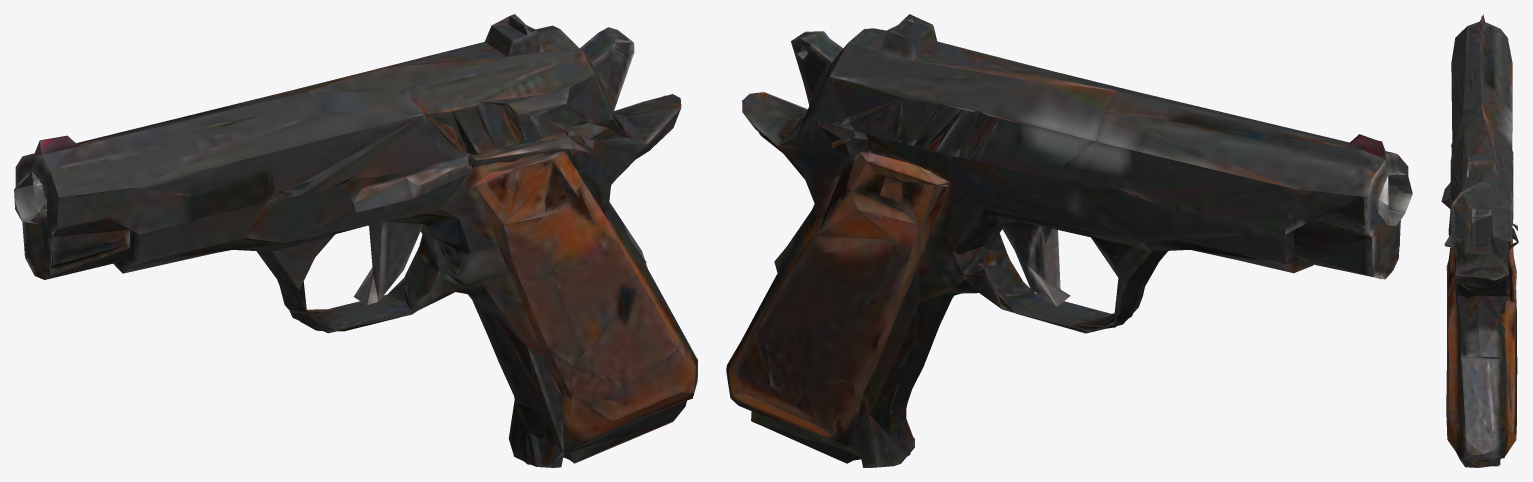
The model's file is pistol.glb.
The picture shows the model from 3 angles, left to right: view 1: azimuth 30°, elevation 25°; view 2: azimuth 150°, elevation 25°; view 3: azimuth 270°, elevation 25°; orthographic projection. The views are drawn at different scales.
Size of the model in its own units: 1.9 by 1.21 by 0.3045.
1 material, 1 textured.
